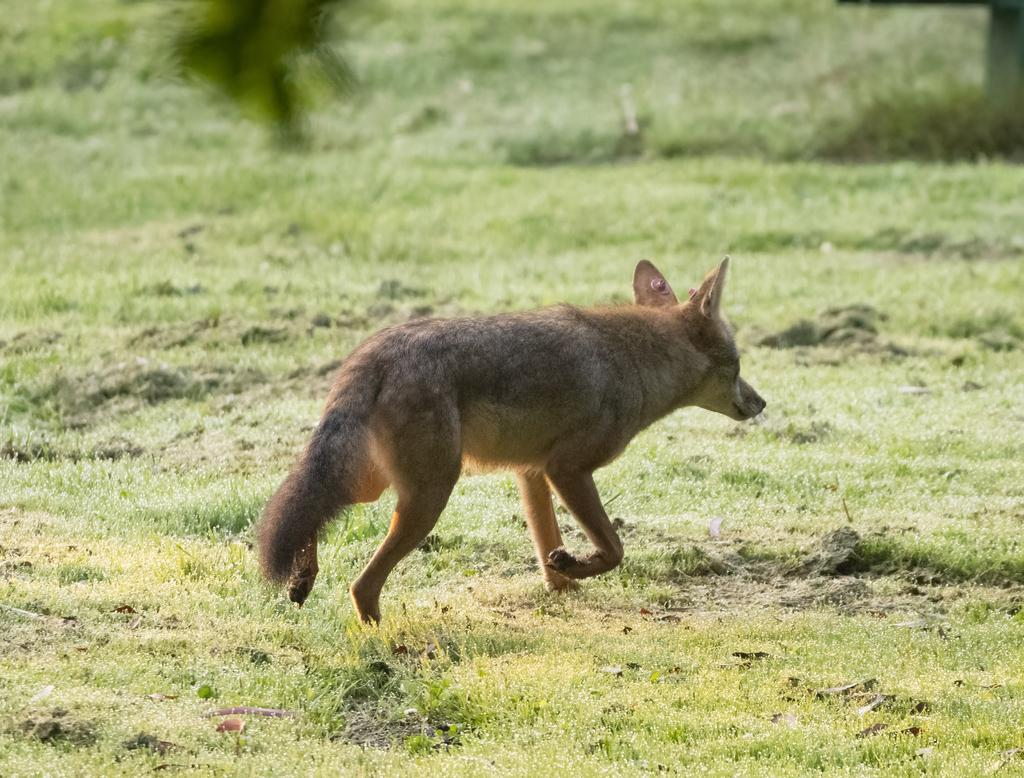Coyote: (249, 254, 770, 628)
